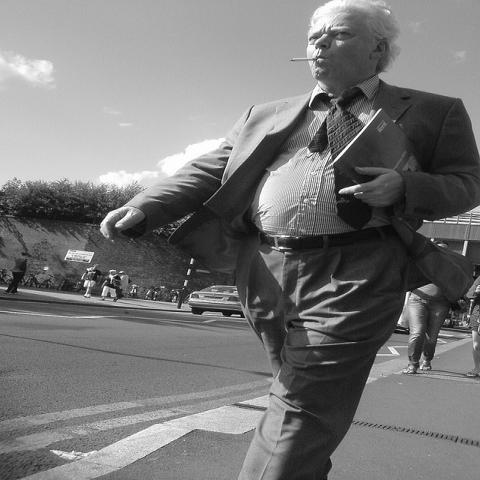car: (189, 284, 244, 316)
